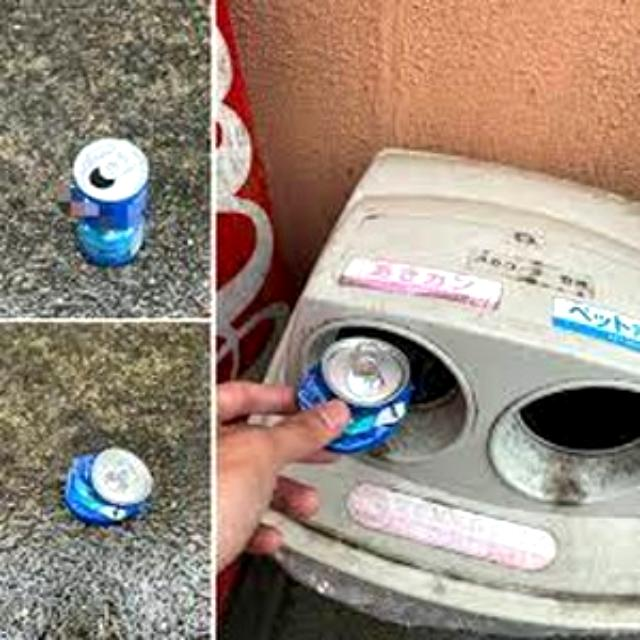Metal: (304, 340, 416, 450), (71, 132, 147, 268), (59, 446, 151, 530)
